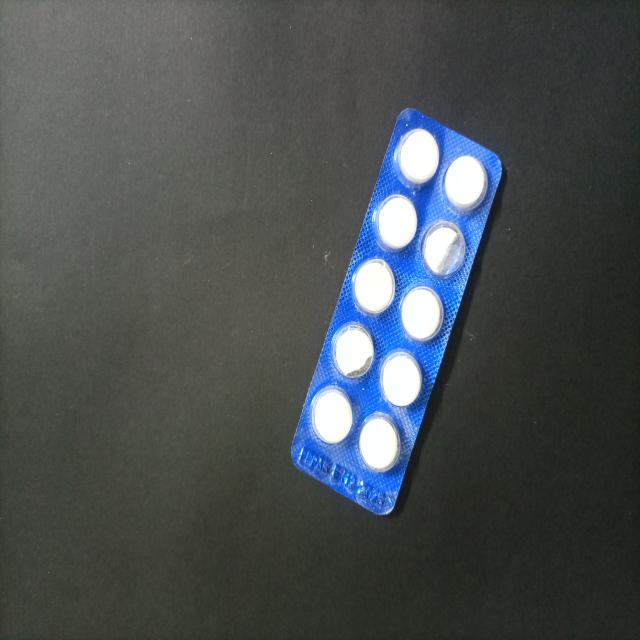defect: (419, 218, 469, 282), (329, 320, 377, 380)
